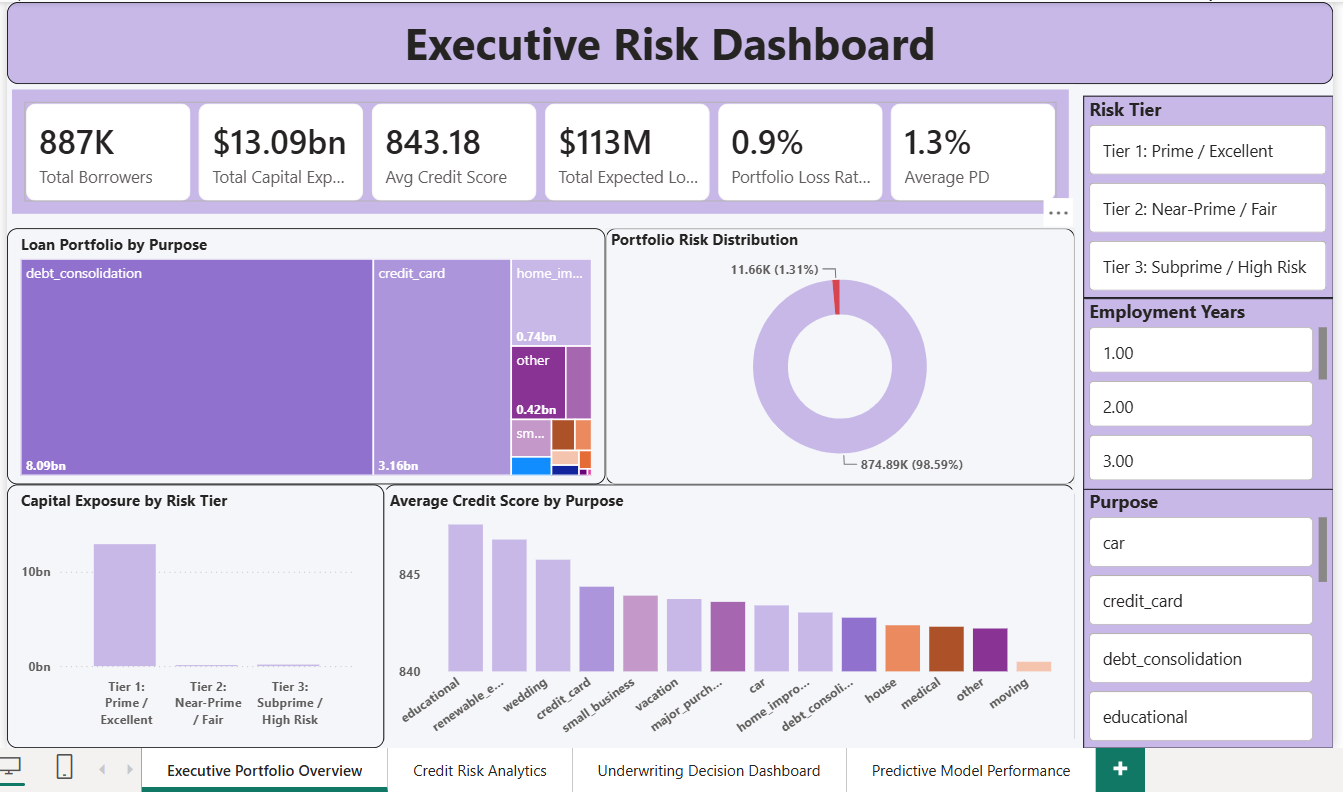

This screenshot's page, from the dashboard's own definition file:
{"tool":"powerbi","page":{"name":"Executive Portfolio Overview","canvas":[1280,720],"ordinal":0},"visuals":[{"type":"textbox","box":[0,0,1280.3,79.5],"z":0},{"type":"cardVisual","fields":{"Data":["creditriskdb underwritten_portfolio_scored.Total Borrowers","creditriskdb underwritten_portfolio_scored.Total Capital Exposure","creditriskdb underwritten_portfolio_scored.Avg Credit Score","creditriskdb underwritten_portfolio_scored.Total Expected Loss","creditriskdb underwritten_portfolio_scored.Portfolio Loss Rate (%)","creditriskdb underwritten_portfolio_scored.Average PD"]},"box":[0,79.6,1030.3,130.3],"z":1000},{"type":"advancedSlicerVisual","title":"Risk Tier","fields":{"Values":["creditriskdb underwritten_portfolio_scored.predictive_risk_tier"]},"box":[1038.7,90.5,241.3,195.4],"z":2000},{"type":"advancedSlicerVisual","title":"Purpose","fields":{"Values":["creditriskdb underwritten_portfolio_scored.purpose"]},"box":[1038.7,469.3,241.3,250.9],"z":3000},{"type":"donutChart","title":"Portfolio Risk Distribution","fields":{"Category":["creditriskdb underwritten_portfolio_scored.predictive_risk_tier"],"Y":["Count(creditriskdb underwritten_portfolio_scored.member_id)"]},"box":[577.9,218.4,452.4,247.3],"z":4000},{"type":"textbox","box":[0,218.4,577.9,247.3],"z":5000},{"type":"treemap","title":"Loan Portfolio by Purpose","fields":{"Group":["creditriskdb underwritten_portfolio_scored.purpose"],"Values":["Sum(creditriskdb underwritten_portfolio_scored.loan_amnt)"]},"box":[8.4,223.2,561,238.9],"z":6000},{"type":"textbox","box":[0,465.7,364.3,254.6],"z":7000},{"type":"textbox","box":[364.3,465.7,666,254.6],"z":8000},{"type":"clusteredColumnChart","title":"Capital Exposure by Risk Tier","fields":{"Category":["creditriskdb underwritten_portfolio_scored.Risk Tier"],"Y":["Sum(creditriskdb underwritten_portfolio_scored.loan_amnt)"]},"box":[8.4,470.5,333,237.7],"z":9000},{"type":"advancedSlicerVisual","title":"Employment Years","fields":{"Values":["creditriskdb underwritten_portfolio_scored.Employement Years"]},"box":[1038.7,285.9,241.3,184.6],"z":10000},{"type":"textbox","box":[577.9,218.4,452.4,247.3],"z":11000},{"type":"clusteredColumnChart","title":"Average Credit Score by Purpose","fields":{"Category":["creditriskdb underwritten_portfolio_scored.purpose"],"Y":["creditriskdb underwritten_portfolio_scored.Avg Credit Score"]},"box":[364.3,470.5,666,249.7],"z":12000}]}

Visuals, with their boxes on the page's 1280x720 design canvas (x1, y1, x2, y2). These are canvas units, not pixel positions in the 1343x792 screenshot, which may show the page scaled, cropped or inside an application window:
textbox: box(0, 0, 1280, 80)
cardVisual - creditriskdb underwritten_portfolio_scored.Total Borrowers x creditriskdb underwritten_portfolio_scored.Total Capital Exposure: box(0, 80, 1030, 210)
"Risk Tier" advancedSlicerVisual: box(1039, 90, 1280, 286)
"Purpose" advancedSlicerVisual: box(1039, 469, 1280, 720)
"Portfolio Risk Distribution" donutChart: box(578, 218, 1030, 466)
textbox: box(0, 218, 578, 466)
"Loan Portfolio by Purpose" treemap: box(8, 223, 569, 462)
textbox: box(0, 466, 364, 720)
textbox: box(364, 466, 1030, 720)
"Capital Exposure by Risk Tier" clusteredColumnChart: box(8, 470, 341, 708)
"Employment Years" advancedSlicerVisual: box(1039, 286, 1280, 470)
textbox: box(578, 218, 1030, 466)
"Average Credit Score by Purpose" clusteredColumnChart: box(364, 470, 1030, 720)
